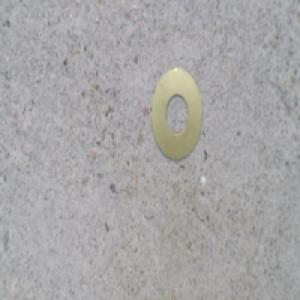Washer: (149, 64, 202, 161)
